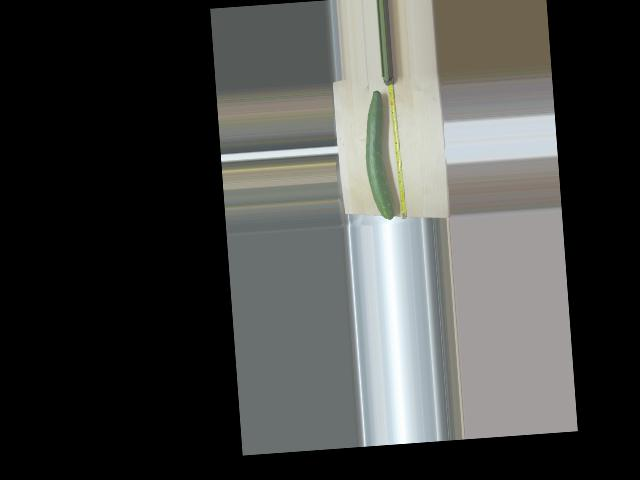cucumber: (361, 89, 395, 221)
